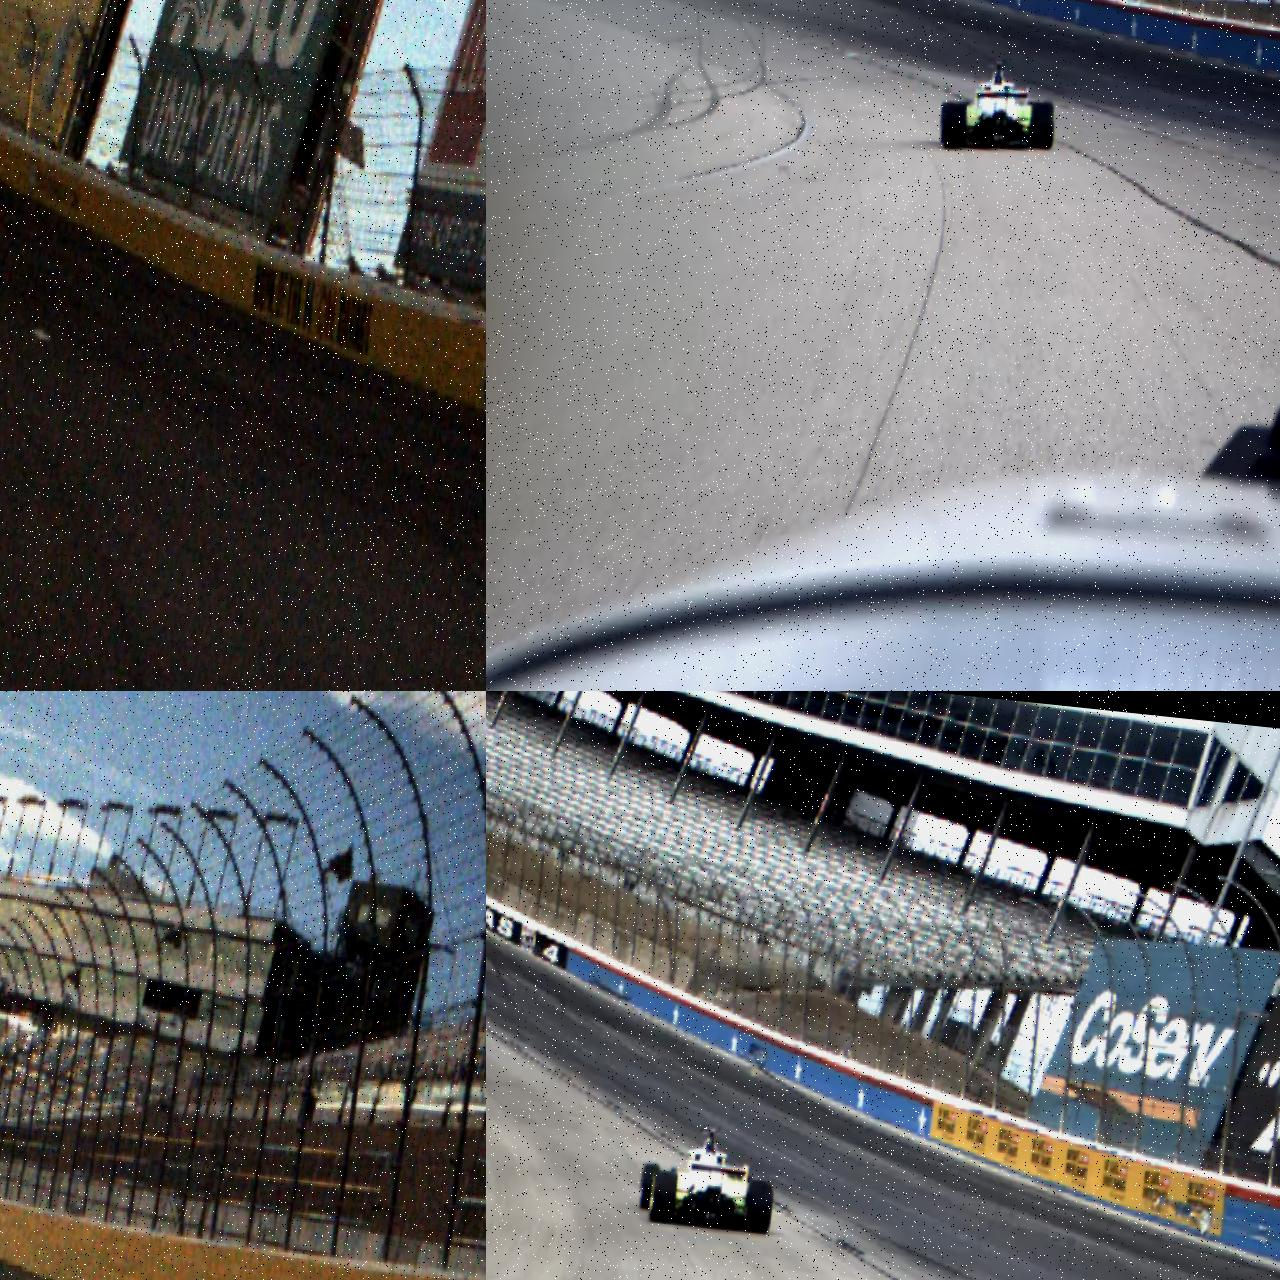AV: (636, 1120, 780, 1236), (938, 55, 1060, 161)
Wheel: (744, 1180, 775, 1236), (648, 1169, 678, 1224), (939, 102, 969, 151), (1028, 101, 1056, 151), (639, 1162, 661, 1210)
